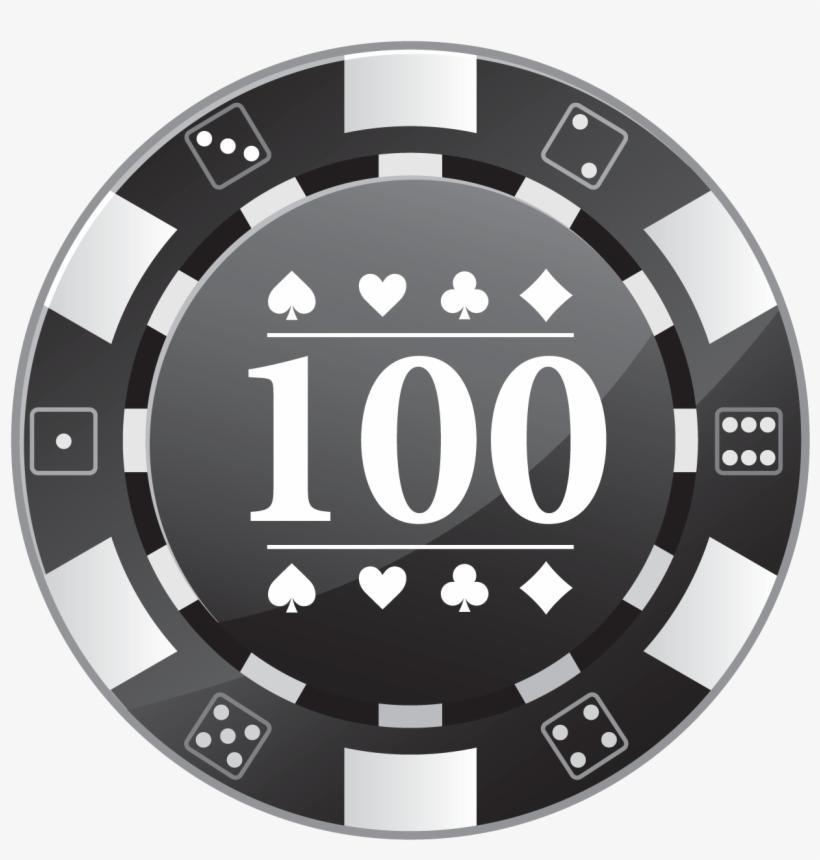chip-black: (13, 42, 808, 838)
